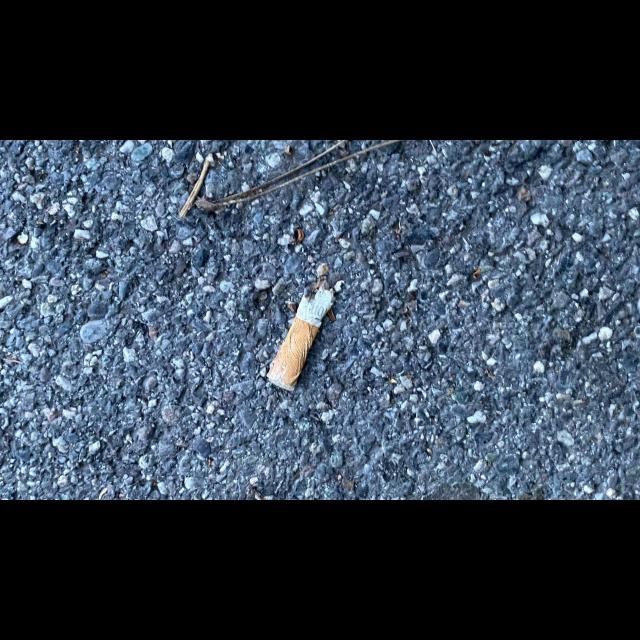cigarette: (266, 277, 336, 393)
